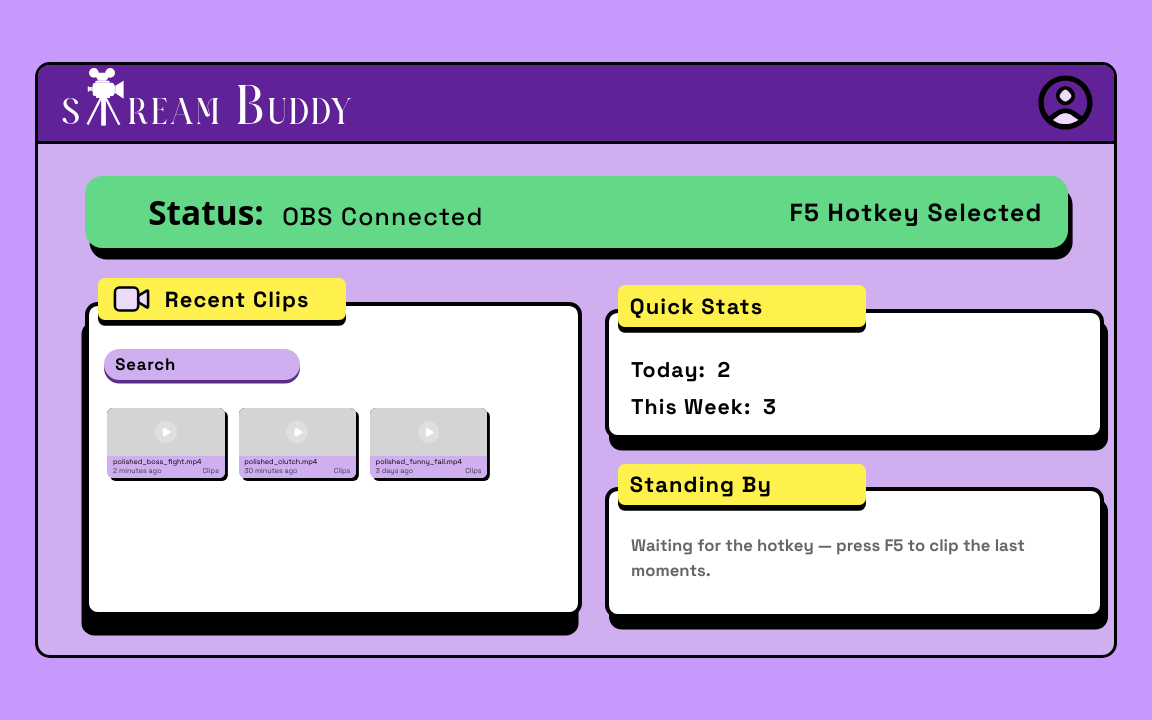
Test case: search › says when nothing matches
In the search field named "Search clips": point(202, 364) [104,348,300,380], type "zzz"
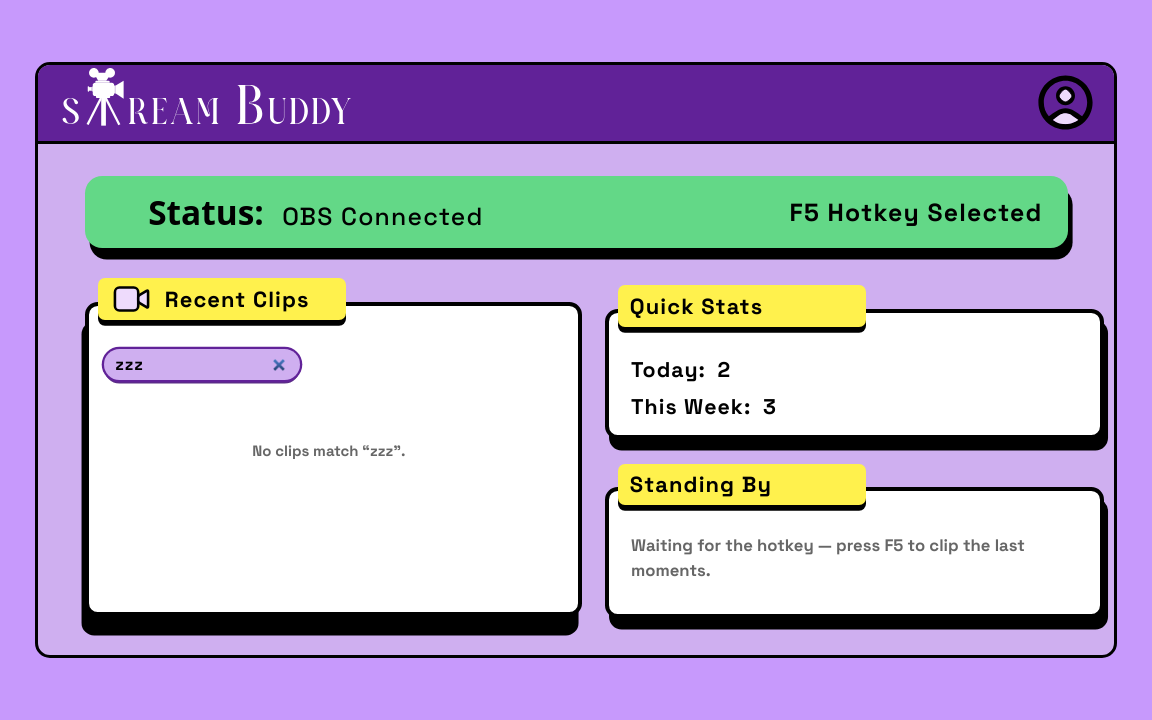
expect the text "No clips match “zzz”." is shown: met, box [252,440,406,460]
